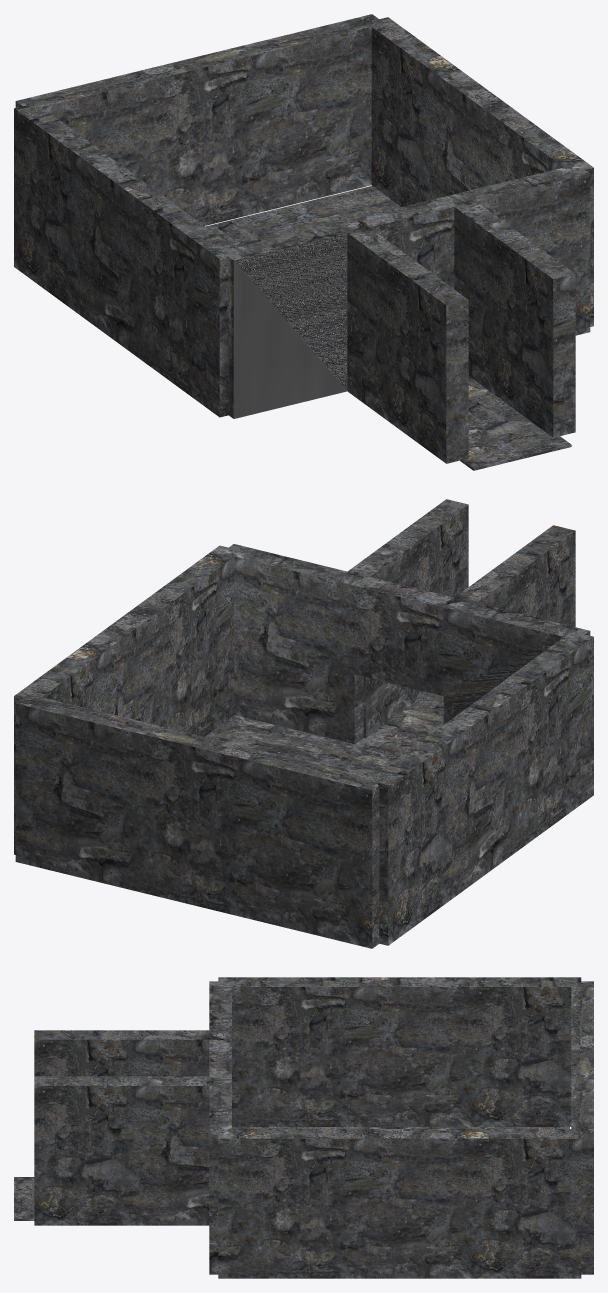
File: parts_start.fbx
3 renders of one model, top to bottom at view 1: azimuth 30°, elevation 25°; view 2: azimuth 150°, elevation 25°; view 3: azimuth 270°, elevation 25°, orthographic. The views are drawn at different scales.
Parts seen in each view (by area): view 1: parts; view 2: parts; view 3: parts.
Part boxes in pixels (left/top/right/bottom): parts: left=14, top=14, right=593, bottom=470; parts: left=14, top=499, right=593, bottom=948; parts: left=14, top=977, right=593, bottom=1278.
Bounding box in the file's own units: 1680 × 690 × 2555.
Materials: 1 (1 with a texture image).
